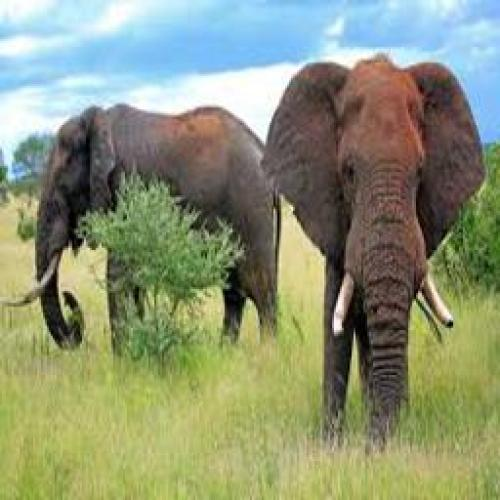african_elephant-endangered: (269, 60, 482, 436), (28, 104, 288, 337)
